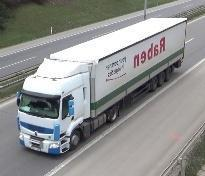Truck: (14, 18, 188, 156)
